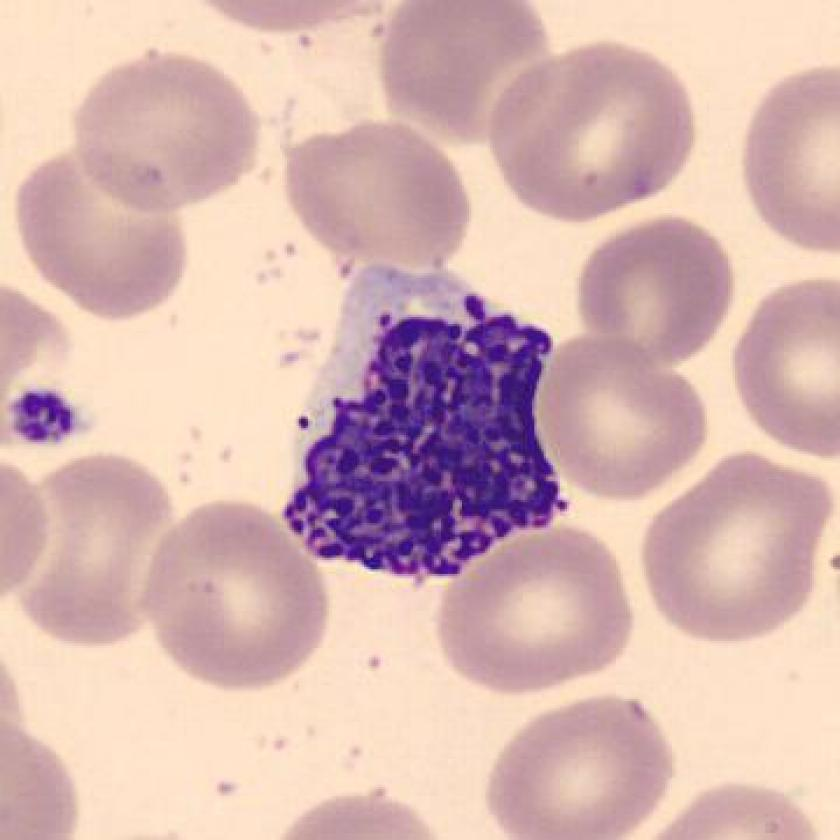basophil: (290, 274, 573, 587)
